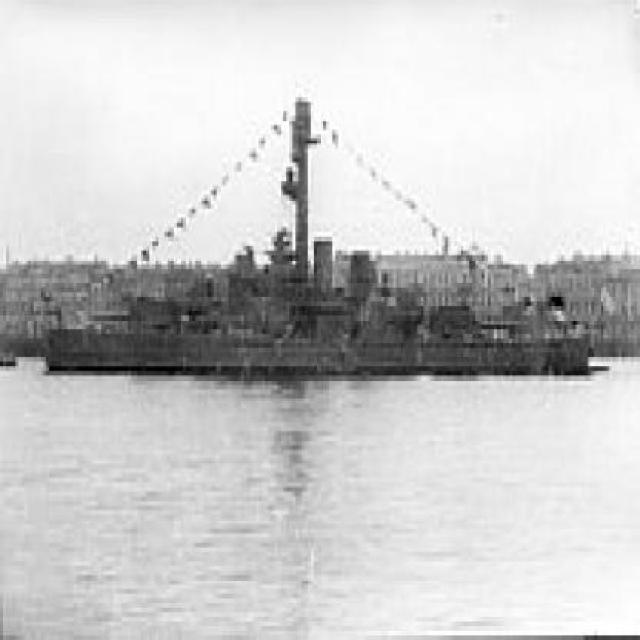warship2: (40, 94, 608, 391)
